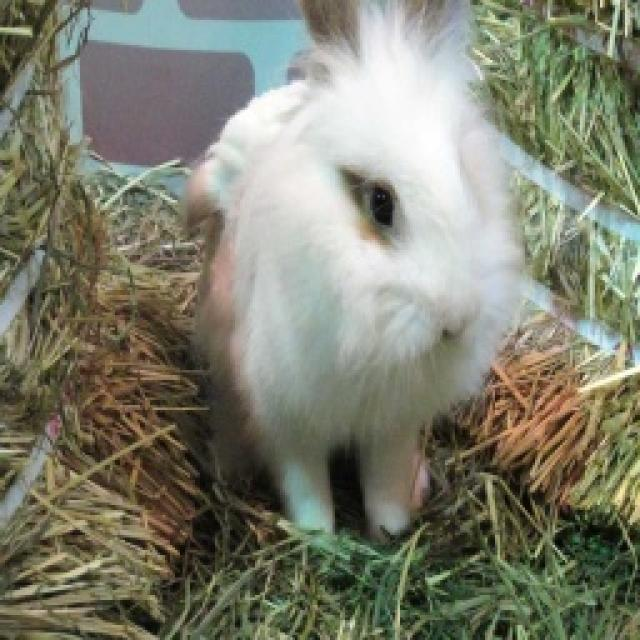not_pig: (180, 0, 532, 540)
